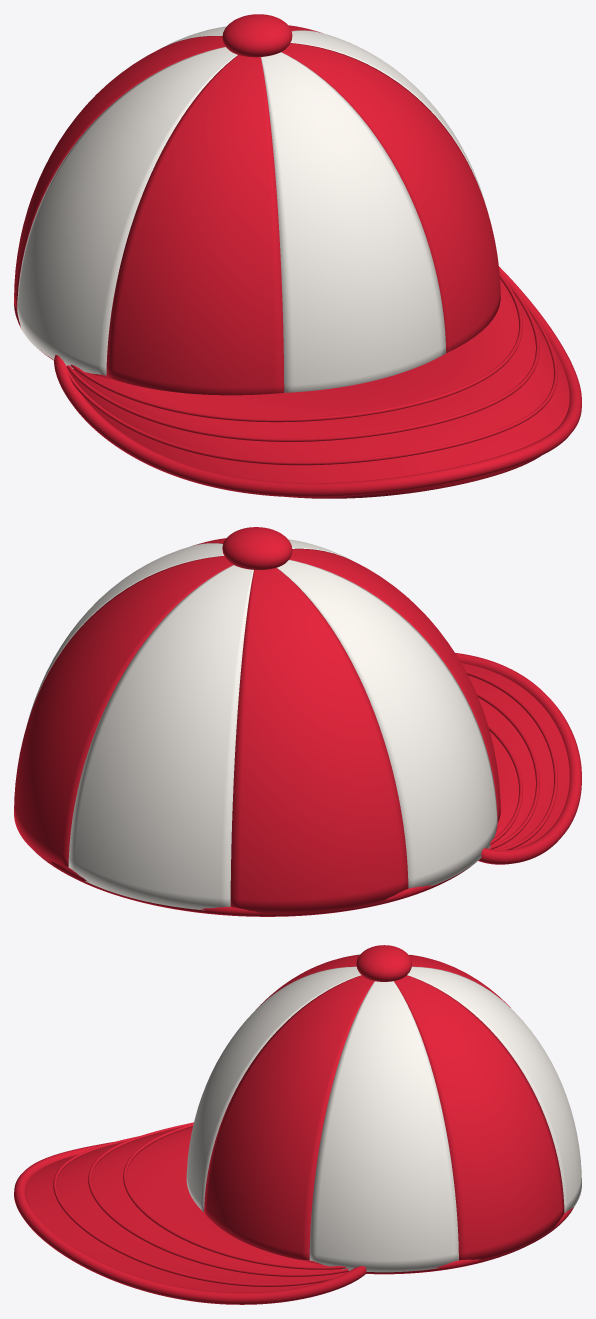
The model's file is BaseballCap_Cartoon.glb.
3 views of the same model, one above another, from view 1: azimuth 30°, elevation 25°; view 2: azimuth 150°, elevation 25°; view 3: azimuth 270°, elevation 25° (orthographic). The views are drawn at different scales.
Visible parts, largest first — view 1: Crown panel 07, Crown panel 00, Curved red visor, Crown panel 06, Crown panel 01, Rounded visor lip, Crown panel 05, Visor stitched ridge.002, Visor stitched ridge.001, Visor stitched ridge, Red top button, Crown panel 02; view 2: Crown panel 05, Crown panel 04, Crown panel 06, Crown panel 03, Curved red visor, Crown panel 07, Rounded visor lip, Red top button, Crown panel 02, Inner opening rim, Visor stitched ridge.002, Visor stitched ridge.001 (+1 smaller); view 3: Crown panel 02, Crown panel 03, Crown panel 01, Curved red visor, Crown panel 04, Crown panel 00, Rounded visor lip, Red top button, Visor stitched ridge.002, Visor stitched ridge.001, Visor stitched ridge, Inner opening rim (+2 smaller).
Part boxes in pixels (bbox=[...]): Crown panel 07: bbox=[106, 55, 284, 395]; Crown panel 00: bbox=[261, 52, 446, 392]; Curved red visor: bbox=[68, 279, 569, 498]; Crown panel 06: bbox=[17, 47, 237, 375]; Crown panel 01: bbox=[281, 43, 500, 352]; Rounded visor lip: bbox=[54, 266, 581, 497]; Crown panel 05: bbox=[14, 36, 225, 309]; Visor stitched ridge.002: bbox=[67, 283, 557, 465]; Visor stitched ridge.001: bbox=[66, 271, 539, 441]; Visor stitched ridge: bbox=[70, 273, 522, 422]; Red top button: bbox=[222, 14, 292, 57]; Crown panel 02: bbox=[290, 30, 486, 208]; Crown panel 05: bbox=[230, 568, 408, 913]; Crown panel 04: bbox=[68, 565, 253, 910]; Crown panel 06: bbox=[277, 559, 497, 888]; Crown panel 03: bbox=[14, 556, 233, 867]; Curved red visor: bbox=[461, 662, 569, 849]; Crown panel 07: bbox=[289, 548, 500, 822]; Rounded visor lip: bbox=[455, 653, 581, 864]; Red top button: bbox=[222, 527, 292, 569]; Crown panel 02: bbox=[28, 543, 224, 719]; Inner opening rim: bbox=[14, 806, 499, 916]; Visor stitched ridge.002: bbox=[465, 670, 557, 850]; Visor stitched ridge.001: bbox=[476, 692, 539, 849]; Crown panel 02: bbox=[309, 981, 458, 1272]; Crown panel 03: bbox=[394, 975, 564, 1260]; Crown panel 01: bbox=[204, 975, 374, 1260]; Curved red visor: bbox=[26, 1127, 349, 1292]; Crown panel 04: bbox=[407, 966, 581, 1213]; Crown panel 00: bbox=[186, 966, 361, 1211]; Rounded visor lip: bbox=[14, 1142, 367, 1304]; Red top button: bbox=[356, 945, 411, 981]; Visor stitched ridge.002: bbox=[53, 1136, 346, 1286]; Visor stitched ridge.001: bbox=[88, 1122, 348, 1276]; Visor stitched ridge: bbox=[123, 1123, 345, 1269]; Inner opening rim: bbox=[300, 1207, 573, 1274].
Bounding box in the file's own units: 2.34 × 1.62 × 3.06.
